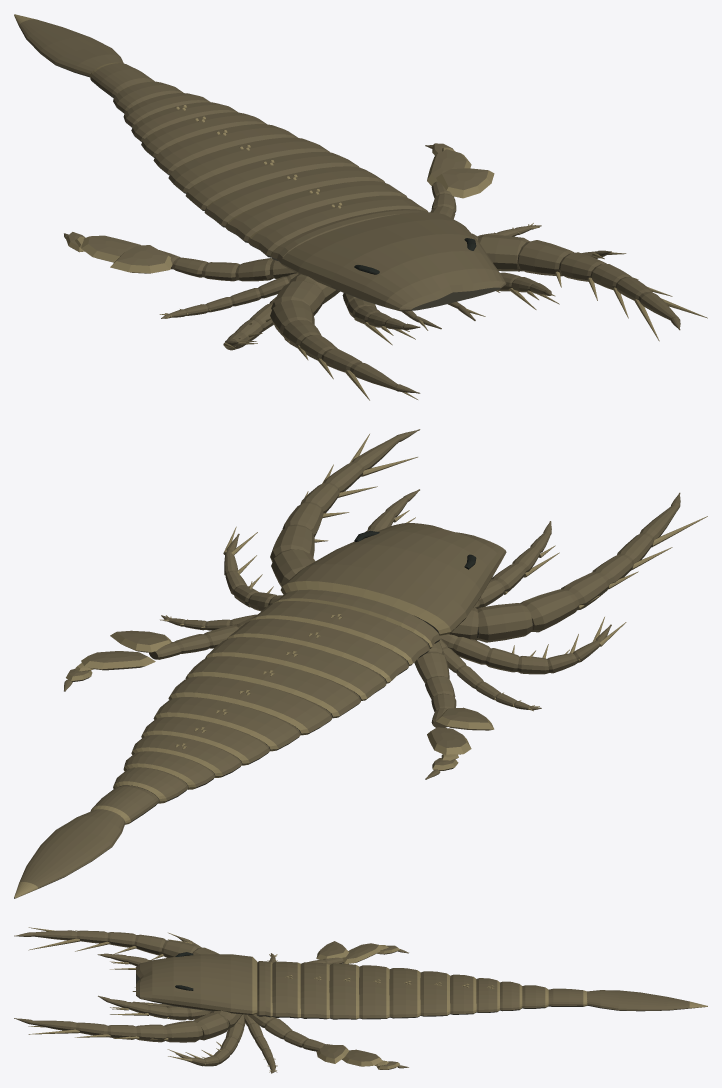
The picture shows the model from 3 angles, top to bottom: view 1: azimuth 30°, elevation 25°; view 2: azimuth 150°, elevation 25°; view 3: azimuth 270°, elevation 25°; orthographic projection. The views are drawn at different scales.
Parts seen in each view (by area): view 1: prosomal-shield-hypothetical, R-III-long-raptorial, L-III-long-raptorial, L-VI-compound-paddle, opisthosoma-04, opisthosoma-03, opisthosoma-05, opisthosoma-02, telson-single-xiphous, opisthosoma-06, R-VI-compound-paddle, opisthosoma-07 (+10 smaller); view 2: prosomal-shield-hypothetical, L-III-long-raptorial, R-III-long-raptorial, telson-single-xiphous, opisthosoma-04, opisthosoma-05, L-VI-compound-paddle, opisthosoma-03, opisthosoma-06, opisthosoma-02, R-VI-compound-paddle, opisthosoma-07 (+11 smaller); view 3: prosomal-shield-hypothetical, R-III-long-raptorial, L-III-long-raptorial, R-VI-compound-paddle, telson-single-xiphous, opisthosoma-04, opisthosoma-03, opisthosoma-05, opisthosoma-02, opisthosoma-06, opisthosoma-07, L-VI-compound-paddle (+10 smaller).
Part boxes in pixels (x1,y1,x2,y2): prosomal-shield-hypothetical: (280,212,506,311); R-III-long-raptorial: (472,233,707,341); L-III-long-raptorial: (270,274,420,400); L-VI-compound-paddle: (64,232,296,281); opisthosoma-04: (204,166,384,227); opisthosoma-03: (225,181,407,242); opisthosoma-05: (185,152,358,211); opisthosoma-02: (247,195,427,257); telson-single-xiphous: (14,14,123,77); opisthosoma-06: (168,137,330,193); R-VI-compound-paddle: (425,143,494,218); opisthosoma-07: (153,124,297,175); prosomal-shield-hypothetical: (280,523,506,635); L-III-long-raptorial: (449,492,707,642); R-III-long-raptorial: (270,429,420,587); telson-single-xiphous: (14,809,125,898); opisthosoma-04: (205,637,386,700); opisthosoma-05: (185,656,360,718); L-VI-compound-paddle: (414,641,494,779); opisthosoma-03: (227,618,408,683); opisthosoma-06: (168,676,332,735); opisthosoma-02: (250,601,429,665); R-VI-compound-paddle: (64,615,256,691); opisthosoma-07: (153,697,300,751); prosomal-shield-hypothetical: (136,954,257,1014); R-III-long-raptorial: (14,1010,242,1042); L-III-long-raptorial: (14,927,219,959); R-VI-compound-paddle: (248,1014,408,1069); telson-single-xiphous: (587,990,707,1011); opisthosoma-04: (329,963,359,1019); opisthosoma-03: (300,962,329,1019); opisthosoma-05: (359,965,389,1019); opisthosoma-02: (272,961,300,1018); opisthosoma-06: (389,968,420,1018); opisthosoma-07: (420,971,450,1016); L-VI-compound-paddle: (307,941,408,964).
Bounding box in the file's own units: 0.4346 × 0.0823 × 1.03.
